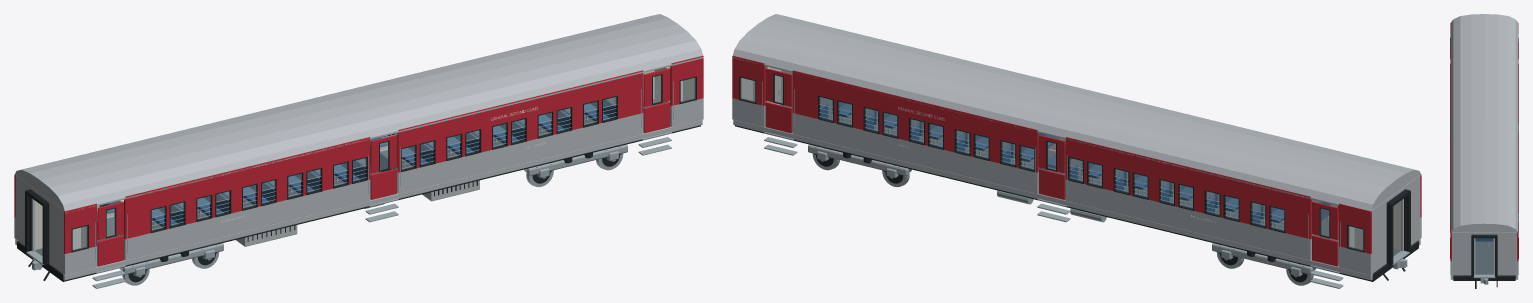
The model's file is LHB_GS.fbx.
3 views of the same model, side by side, from view 1: azimuth 30°, elevation 25°; view 2: azimuth 150°, elevation 25°; view 3: azimuth 270°, elevation 25° (orthographic). The views are drawn at different scales.
Visible parts, largest first — view 1: ROOF_arch, BODYSIDE_sill.002, BODYSIDE_sill.001, BODYSIDE_header.001, BODYSIDE_header.002, UNDERFRAME_edge, INTERIOR_floor, UNDERFRAME_main, END_wall, END_wall.001, BOGIE_sideframe_FRONT, BODYSIDE_sill.003 (+12 smaller); view 2: ROOF_arch, BODYSIDE_sill.006, BODYSIDE_sill.005, BODYSIDE_header.006, BODYSIDE_header.005, UNDERFRAME_edge.001, INTERIOR_floor, UNDERFRAME_main, END_wall.001, END_wall, BOGIE_sideframe_FRONT.001, BODYSIDE_sill.007 (+10 smaller); view 3: ROOF_arch, END_wall.002, END_wall.003, INTERIOR_floor, ROOF_endcap.001, UNDERFRAME_main, GANGWAY_bellows.014, GANGWAY_bellows.015, GANGWAY_bridge.001, BODYSIDE_header.002, BODYSIDE_header.006, BODYSIDE_header.001 (+2 smaller).
Boxes of the visible parts, x1,y1,x2,y2 form: ROOF_arch: (14, 14, 703, 213); BODYSIDE_sill.002: (397, 113, 643, 193); BODYSIDE_sill.001: (124, 179, 370, 260); BODYSIDE_header.001: (124, 137, 370, 215); BODYSIDE_header.002: (397, 70, 643, 149); UNDERFRAME_edge: (63, 119, 702, 280); INTERIOR_floor: (35, 98, 654, 265); UNDERFRAME_main: (17, 125, 700, 281); END_wall: (46, 198, 63, 273); END_wall.001: (15, 175, 34, 251); BOGIE_sideframe_FRONT: (527, 144, 627, 175); BODYSIDE_sill.003: (670, 98, 703, 127); ROOF_arch: (732, 14, 1421, 213); BODYSIDE_sill.006: (792, 113, 1038, 193); BODYSIDE_sill.005: (1065, 179, 1311, 260); BODYSIDE_header.006: (792, 70, 1038, 149); BODYSIDE_header.005: (1065, 137, 1311, 216); UNDERFRAME_edge.001: (733, 119, 1372, 280); INTERIOR_floor: (781, 97, 1400, 265); UNDERFRAME_main: (735, 125, 1418, 281); END_wall.001: (1372, 198, 1389, 273); END_wall: (1401, 175, 1420, 251); BOGIE_sideframe_FRONT.001: (808, 144, 908, 175); BODYSIDE_sill.007: (732, 98, 765, 127); ROOF_arch: (1450, 14, 1518, 233); END_wall.002: (1452, 232, 1475, 275); END_wall.003: (1493, 232, 1516, 275); INTERIOR_floor: (1475, 238, 1493, 274); ROOF_endcap.001: (1451, 223, 1517, 232); UNDERFRAME_main: (1453, 275, 1515, 280); GANGWAY_bellows.014: (1471, 236, 1473, 276); GANGWAY_bellows.015: (1495, 236, 1497, 276); GANGWAY_bridge.001: (1473, 274, 1495, 278); BODYSIDE_header.002: (1450, 132, 1450, 212); BODYSIDE_header.006: (1518, 132, 1518, 212); BODYSIDE_header.001: (1450, 43, 1450, 122).
Bounding box in the file's own units: 326 × 2416 × 406.
